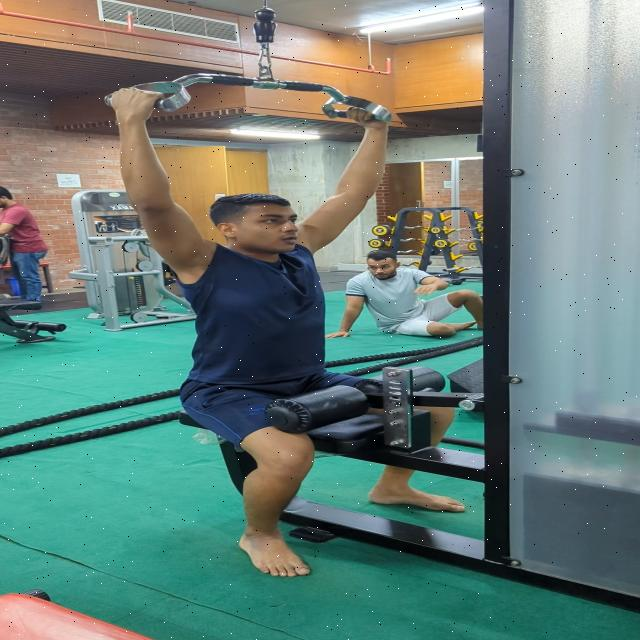Normal_LatPulldown: (101, 85, 453, 582)
